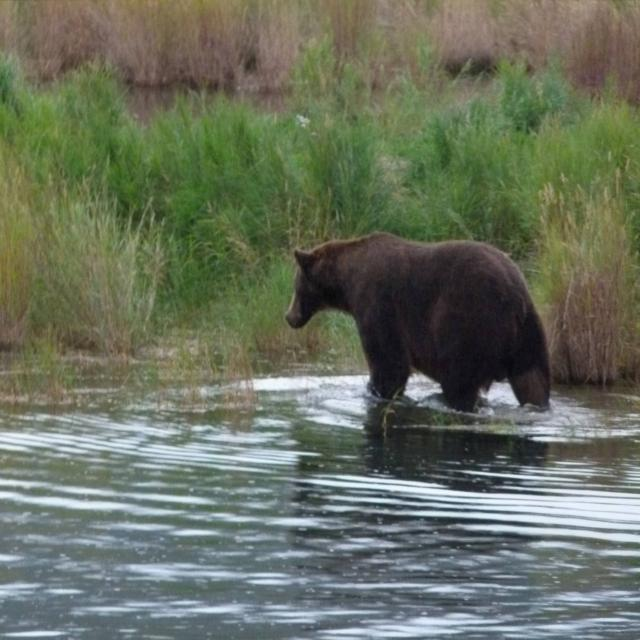bear face: (287, 230, 550, 406)
